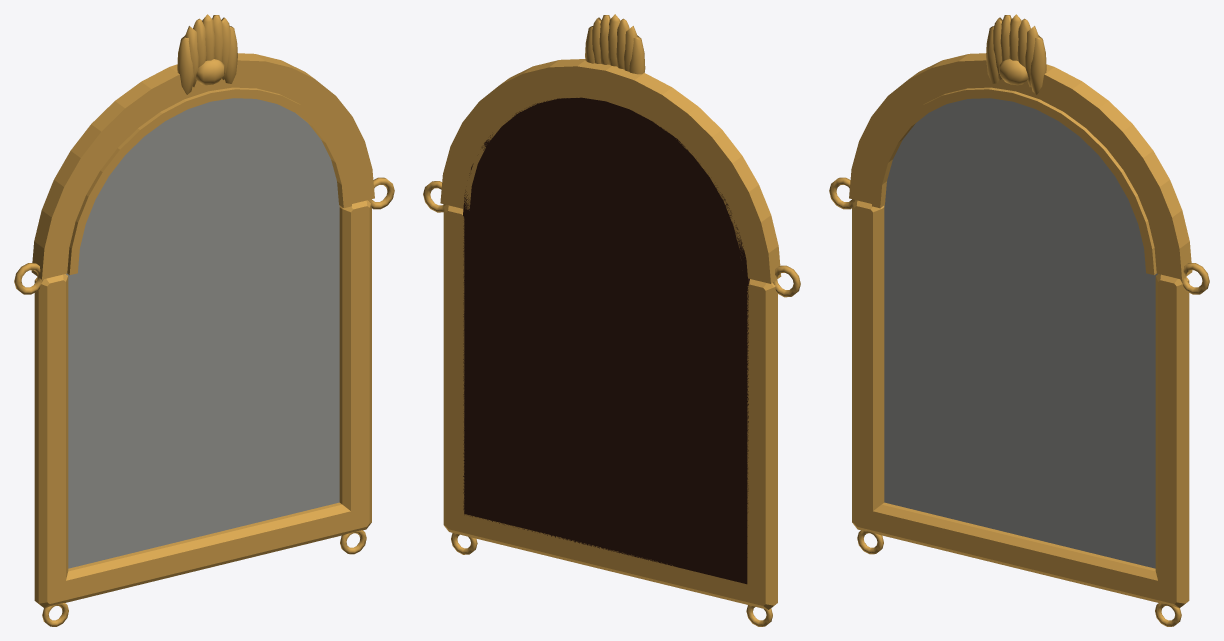
The model's file is mirror.glb.
The picture shows the model from 3 angles, left to right: view 1: azimuth 30°, elevation 25°; view 2: azimuth 150°, elevation 25°; view 3: azimuth 330°, elevation 25°; orthographic projection.
Visible parts, largest first — view 1: Mirror; view 2: Mirror; view 3: Mirror.
Part boxes in pixels (box(x1,y1,x2,y2)): Mirror: box(14, 14, 394, 626); Mirror: box(423, 14, 800, 626); Mirror: box(829, 14, 1209, 626).
Bounding box in the file's own units: 0.5521 × 0.8061 × 0.0433.
